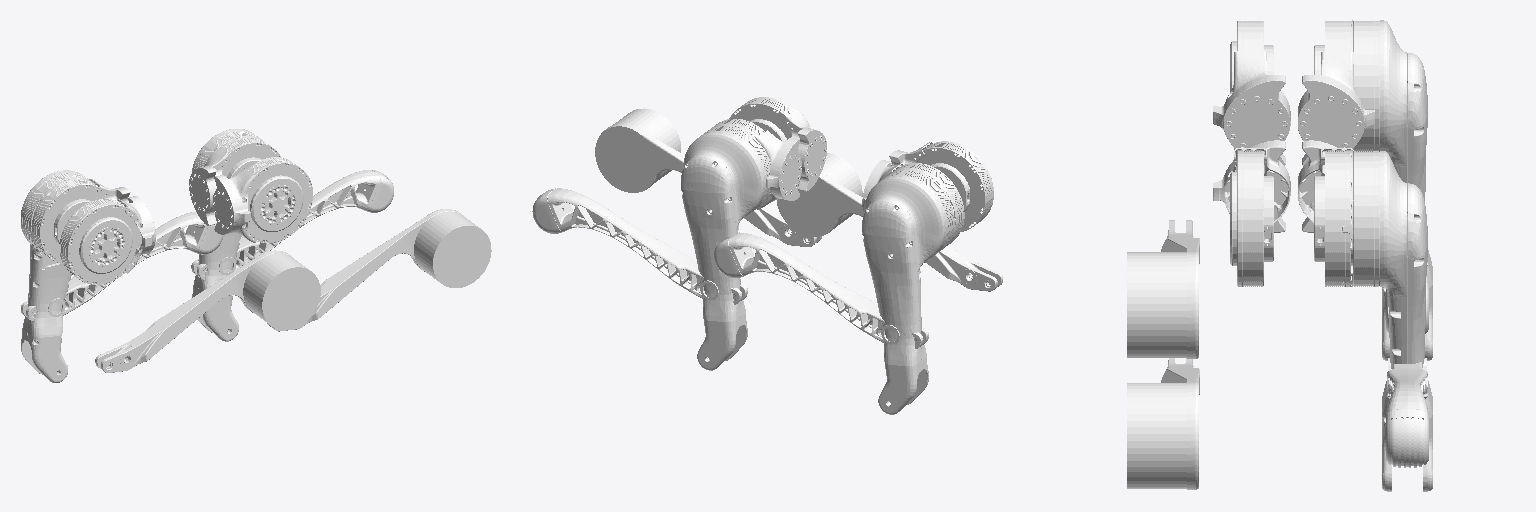
--- What the picture shows (computed from the rendered views, not written in the file) ---
Views: 3 orthographic renders of the robot side by side, from view 1: azimuth 30°, elevation 25°; view 2: azimuth 150°, elevation 25°; view 3: azimuth 270°, elevation 25°.
Model go2_description with 41 links and 40 joints (12 revolute, 28 fixed), rooted at base, posed all joints at 0 but 4 set to mid-range because 0 is outside their limits (FL_calf_joint = -1.78, FR_calf_joint = -1.78, RL_calf_joint = -1.78, RR_calf_joint = -1.78).
Visible links, largest first — view 1: RR_calf, FR_calf, FR_hip, RR_hip, RL_thigh, FL_calf, RL_hip, RL_calf, FL_thigh, FL_hip; view 2: RL_thigh, FL_thigh, FR_calf, RR_calf, FL_calf, RL_calf, RR_hip, FR_hip, FL_hip, RL_hip; view 3: FL_thigh, RL_thigh, RR_calf, FR_calf, FR_hip, RR_hip, RL_hip, FL_hip, FL_calf.
Boxes of the visible links, bbox=[...] form: RR_calf: bbox=[95, 250, 320, 372]; FR_calf: bbox=[267, 209, 491, 331]; FR_hip: bbox=[213, 157, 312, 242]; RR_hip: bbox=[60, 196, 155, 284]; RL_thigh: bbox=[21, 170, 88, 382]; FL_calf: bbox=[191, 170, 393, 279]; RL_hip: bbox=[32, 178, 130, 263]; RL_calf: bbox=[21, 212, 222, 321]; FL_thigh: bbox=[192, 129, 264, 341]; FL_hip: bbox=[189, 137, 281, 225]; RL_thigh: bbox=[862, 169, 955, 414]; FL_thigh: bbox=[681, 125, 770, 370]; FR_calf: bbox=[595, 108, 821, 246]; RR_calf: bbox=[777, 153, 1002, 291]; FL_calf: bbox=[532, 188, 747, 304]; RL_calf: bbox=[714, 232, 928, 348]; RR_hip: bbox=[889, 141, 993, 231]; FR_hip: bbox=[729, 97, 826, 191]; FL_hip: bbox=[711, 119, 801, 209]; RL_hip: bbox=[862, 160, 964, 245]; FL_thigh: bbox=[1342, 151, 1432, 491]; RL_thigh: bbox=[1350, 20, 1432, 360]; RR_calf: bbox=[1127, 220, 1199, 358]; FR_calf: bbox=[1127, 358, 1199, 489]; FR_hip: bbox=[1213, 140, 1290, 286]; RR_hip: bbox=[1213, 21, 1290, 165]; RL_hip: bbox=[1298, 21, 1374, 165]; FL_hip: bbox=[1298, 140, 1353, 286]; FL_calf: bbox=[1386, 358, 1428, 467].
Bounding box of the posed robot: 0.8815 × 0.3832 × 0.4589 m (x, y, z).
Meshes: 7 distinct files referenced, 10 mesh visuals loaded (4 Collada DAE); not drawn: 7 (reference not matched to a file when rendering).

The robot description file, URDF, robot "go2_description":
<?xml version="1.0" encoding="utf-8"?>
<!-- This URDF was automatically created by SolidWorks to URDF Exporter! Originally created by
Stephen Brawner ([email redacted]) 
     Commit Version: 1.6.0-4-g7f85cfe  Build Version: 1.6.7995.38578
     For more information, please see http://wiki.ros.org/sw_urdf_exporter -->
<robot
  name="go2_description">
  <link
    name="base">
    <inertial>
      <origin
        xyz="0.021112 0 -0.005366"
        rpy="0 0 0" />
      <mass
        value="6.921" />
      <inertia
        ixx="0.02448"
        ixy="0.00012166"
        ixz="0.0014849"
        iyy="0.098077"
        iyz="-3.12E-05"
        izz="0.107" />
    </inertial>
    <visual>
      <origin
        xyz="0 0 0"
        rpy="0 0 0" />
      <geometry>
        <mesh
          filename="package://go2_description/dae/base.dae" />
      </geometry>
      <material
        name="">
        <color
          rgba="1 1 1 1" />
      </material>
    </visual>
    <collision>
      <origin rpy="0 0 0" xyz="0 0 0" />
      <geometry>
        <box size="0.3762 0.0935 0.114" />
      </geometry>
    </collision>
  </link>
  <link
    name="Head_upper">
    <inertial>
      <origin
        xyz="0 0 0"
        rpy="0 0 0" />
      <mass
        value="0.001" />
      <inertia
        ixx="9.6e-06"
        ixy="0"
        ixz="0"
        iyy="9.6e-06"
        iyz="0"
        izz="9.6e-06" />
    </inertial>
    <collision>
      <origin
        xyz="0 0 0"
        rpy="0 0 0" />
      <geometry>
        <cylinder radius="0.05" length="0.09" />
      </geometry>
    </collision>
  </link>
  <joint
    name="Head_upper_joint"
    type="fixed" dont_collapse="true">
    <origin
      xyz="0.285 0 0.01"
      rpy="0 0 0" />
    <parent
      link="base" />
    <child
      link="Head_upper" />
    <axis
      xyz="0 0 0" />
  </joint>
  <link
    name="Head_lower">
    <inertial>
      <origin
        xyz="0 0 0"
        rpy="0 0 0" />
      <mass
        value="0.001" />
      <inertia
        ixx="9.6e-06"
        ixy="0"
        ixz="0"
        iyy="9.6e-06"
        iyz="0"
        izz="9.6e-06" />
    </inertial>
    <collision>
      <origin
        xyz="0 0 0"
        rpy="0 0 0" />
      <geometry>
        <sphere radius="0.047" />
      </geometry>
    </collision>
  </link>
  <joint
    name="Head_lower_joint"
    type="fixed" dont_collapse="true">
    <origin
      xyz="0.008 0 -0.07"
      rpy="0 0 0" />
    <parent
      link="Head_upper" />
    <child
      link="Head_lower" />
    <axis
      xyz="0 0 0" />
  </joint>
  <link
    name="FL_hip">
    <inertial>
      <origin
        xyz="-0.0054 0.00194 -0.000105"
        rpy="0 0 0" />
      <mass
        value="0.678" />
      <inertia
        ixx="0.00048"
        ixy="-3.01E-06"
        ixz="1.11E-06"
        iyy="0.000884"
        iyz="-1.42E-06"
        izz="0.000596" />
    </inertial>
    <visual>
      <origin
        xyz="0 0 0"
        rpy="0 0 0" />
      <geometry>
        <mesh
          filename="package://go2_description/dae/hip.dae" />
      </geometry>
      <material
        name="">
        <color
          rgba="1 1 1 1" />
      </material>
    </visual>
    <collision>
      <origin rpy="1.5707963267948966 0 0" xyz="0 0.08 0" />
      <geometry>
        <cylinder length="0.04" radius="0.046" />
      </geometry>
    </collision>
  </link>
  <joint
    name="FL_hip_joint"
    type="revolute">
    <origin
      xyz="0.1934 0.0465 0"
      rpy="0 0 0" />
    <parent
      link="base" />
    <child
      link="FL_hip" />
    <axis
      xyz="1 0 0" />
    <limit
      lower="-1.0472"
      upper="1.0472"
      effort="23.7"
      velocity="30.1" />
  </joint>
  <link name="FL_hip_rotor">
    <inertial>
      <origin rpy="0 0 0" xyz="0.0 0.0 0.0"/>
      <mass value="0.089"/>
      <inertia ixx="0.000111842" ixy="0.0" ixz="0.0" iyy="0.000059647" iyz="0.0" izz="0.000059647"/>
    </inertial>
  </link>
  <joint name="FL_hip_rotor_joint" type="fixed">
    <origin rpy="0 0 0" xyz="0.11215 0.04675 0"/>
    <parent link="base"/>
    <child link="FL_hip_rotor"/>
  </joint>
  <link
    name="FL_thigh">
    <inertial>
      <origin
        xyz="-0.00374 -0.0223 -0.0327"
        rpy="0 0 0" />
      <mass
        value="1.152" />
      <inertia
        ixx="0.00584"
        ixy="8.72E-05"
        ixz="-0.000289"
        iyy="0.0058"
        iyz="0.000808"
        izz="0.00103" />
    </inertial>
    <visual>
      <origin
        xyz="0 0 0"
        rpy="0 0 0" />
      <geometry>
        <mesh
          filename="package://go2_description/dae/thigh.dae" />
      </geometry>
      <material
        name="">
        <color
          rgba="1 1 1 1" />
      </material>
    </visual>
    <collision>
      <origin rpy="0 1.5707963267948966 0" xyz="0 0 -0.1065" />
      <geometry>
        <box size="0.213 0.0245 0.034" />
      </geometry>
    </collision>
  </link>
  <joint
    name="FL_thigh_joint"
    type="revolute">
    <origin
      xyz="0 0.0955 0"
      rpy="0 0 0" />
    <parent
      link="FL_hip" />
    <child
      link="FL_thigh" />
    <axis
      xyz="0 1 0" />
    <limit
      lower="-1.5708"
      upper="3.4907"
      effort="23.7"
      velocity="30.1" />
  </joint>
  <link name="FL_thigh_rotor">
    <inertial>
      <origin rpy="0 0 0" xyz="0.0 0.0 0.0"/>
      <mass value="0.089"/>
      <inertia ixx="0.000059647" ixy="0.0" ixz="0.0" iyy="0.000111842" iyz="0.0" izz="0.000059647"/>
    </inertial>
  </link>
  <joint name="FL_thigh_rotor_joint" type="fixed">
    <origin rpy="0 0 0" xyz="0 -0.00015 0"/>
    <parent link="FL_hip"/>
    <child link="FL_thigh_rotor"/>
  </joint>
  <link
    name="FL_calf">
    <inertial>
      <origin
        xyz="0.00548 -0.000975 -0.115"
        rpy="0 0 0" />
      <mass
        value="0.154" />
      <inertia
        ixx="0.00108"
        ixy="3.4E-07"
        ixz="1.72E-05"
        iyy="0.0011"
        iyz="8.28E-06"
        izz="3.29E-05" />
    </inertial>
    <visual>
      <origin
        xyz="0 0 0"
        rpy="0 0 0" />
      <geometry>
        <mesh
          filename="package://go2_description/dae/calf.dae" />
      </geometry>
      <material
        name="">
        <color
          rgba="1 1 1 1" />
      </material>
    </visual>
    <collision>
      <origin rpy="0 -0.21 0" xyz="0.008 0 -0.06" />
      <geometry>
        <cylinder length="0.12" radius="0.012" />
      </geometry>
    </collision>
  </link>
  <joint
    name="FL_calf_joint"
    type="revolute">
    <origin
      xyz="0 0 -0.213"
      rpy="0 0 0" />
    <parent
      link="FL_thigh" />
    <child
      link="FL_calf" />
    <axis
      xyz="0 1 0" />
    <limit
      lower="-2.7227"
      upper="-0.83776"
      effort="45.43"
      velocity="15.70" />
  </joint>
  <link
    name="FL_calflower">
    <collision>
      <origin rpy="0 0 0" xyz="0 0 0" />
      <geometry>
        <cylinder length="0.065" radius="0.011" />
      </geometry>
    </collision>
  </link>
  <joint
    name="FL_calflower_joint"
    type="fixed">
    <origin
      xyz="0.020 0 -0.148"
      rpy="0 0.05 0" />
    <parent
      link="FL_calf" />
    <child
      link="FL_calflower" />
    <axis
      xyz="0 0 0" />
  </joint>
  <link
    name="FL_calflower1">
    <collision>
      <origin rpy="0 0 0" xyz="0 0 0" />
      <geometry>
        <cylinder length="0.03" radius="0.0155" />
      </geometry>
    </collision>
  </link>
  <joint
    name="FL_calflower1_joint"
    type="fixed">
    <origin
      xyz="-0.01 0 -0.04"
      rpy="0 0.48 0" />
    <parent
      link="FL_calflower" />
    <child
      link="FL_calflower1" />
    <axis
      xyz="0 0 0" />
  </joint>
  <link name="FL_calf_rotor">
    <inertial>
      <origin rpy="0 0 0" xyz="0.0 0.0 0.0"/>
      <mass value="0.089"/>
      <inertia ixx="0.000059647" ixy="0.0" ixz="0.0" iyy="0.000111842" iyz="0.0" izz="0.000059647"/>
    </inertial>
  </link>
  <joint name="FL_calf_rotor_joint" type="fixed">
    <origin rpy="0 0 0" xyz="0 -0.03235 0"/>
    <parent link="FL_thigh"/>
    <child link="FL_calf_rotor"/>
  </joint>
  <link
    name="FL_foot">
    <inertial>
      <origin
        xyz="0 0 0"
        rpy="0 0 0" />
      <mass
        value="0.04" />
      <inertia
        ixx="9.6e-06"
        ixy="0"
        ixz="0"
        iyy="9.6e-06"
        iyz="0"
        izz="9.6e-06" />
    </inertial>
    <visual>
      <origin
        xyz="0 0 0"
        rpy="0 0 0" />
      <geometry>
        <mesh
          filename="package://go2_description/dae/foot.dae" />
      </geometry>
      <material
        name="">
        <color
          rgba="1 1 1 1" />
      </material>
    </visual>
    <collision>
      <origin rpy="0 0 0" xyz="-0.002 0 0" />
      <geometry>
        <sphere radius="0.022" />
      </geometry>
    </collision>
  </link>
  <joint
    name="FL_foot_joint"
    type="fixed" dont_collapse="true">
    <origin
      xyz="0 0 -0.213"
      rpy="0 0 0" />
    <parent
      link="FL_calf" />
    <child
      link="FL_foot" />
    <axis
      xyz="0 0 0" />
  </joint>
  <link
    name="FR_hip">
    <inertial>
      <origin
        xyz="-0.0054 -0.00194 -0.000105"
        rpy="0 0 0" />
      <mass
        value="0.678" />
      <inertia
        ixx="0.00048"
        ixy="3.01E-06"
        ixz="1.11E-06"
        iyy="0.000884"
        iyz="1.42E-06"
        izz="0.000596" />
    </inertial>
    <visual>
      <origin
        xyz="0 0 0"
        rpy="3.1415 0 0" />
      <geometry>
        <mesh
          filename="package://go2_description/dae/hip.dae" />
      </geometry>
      <material
        name="">
        <color
          rgba="1 1 1 1" />
      </material>
    </visual>
    <collision>
      <origin rpy="1.5707963267948966 0 0" xyz="0 -0.08 0" />
      <geometry>
        <cylinder length="0.04" radius="0.046" />
      </geometry>
    </collision>
  </link>
  <joint
    name="FR_hip_joint"
    type="revolute">
    <origin
      xyz="0.1934 -0.0465 0"
      rpy="0 0 0" />
    <parent
      link="base" />
    <child
      link="FR_hip" />
    <axis
      xyz="1 0 0" />
    <limit
      lower="-1.0472"
      upper="1.0472"
      effort="23.7"
      velocity="30.1" />
  </joint>
  <link name="FR_hip_rotor">
    <inertial>
      <origin rpy="0 0 0" xyz="0.0 0.0 0.0"/>
      <mass value="0.089"/>
      <inertia ixx="0.000111842" ixy="0.0" ixz="0.0" iyy="0.000059647" iyz="0.0" izz="0.000059647"/>
    </inertial>
  </link>
  <joint name="FR_hip_rotor_joint" type="fixed">
    <origin rpy="0 0 0" xyz="0.11215 -0.04675 0"/>
    <parent link="base"/>
    <child link="FR_hip_rotor"/>
  </joint>
  <link
    name="FR_thigh">
    <inertial>
      <origin
        xyz="-0.00374 0.0223 -0.0327"
        rpy="0 0 0" />
      <mass
        value="1.152" />
      <inertia
        ixx="0.00584"
        ixy="-8.72E-05"
        ixz="-0.000289"
        iyy="0.0058"
        iyz="-0.000808"
        izz="0.00103" />
    </inertial>
    <visual>
      <origin
        xyz="0 0 0"
        rpy="0 0 0" />
      <geometry>
        <mesh
          filename="package://go2_description/dae/thigh_mirror.dae" />
      </geometry>
      <material
        name="">
        <color
          rgba="1 1 1 1" />
      </material>
    </visual>
    <collision>
      <origin rpy="0 1.5707963267948966 0" xyz="0 0 -0.1065" />
      <geometry>
        <box size="0.213 0.0245 0.034" />
      </geometry>
    </collision>
  </link>
  <joint
    name="FR_thigh_joint"
    type="revolute">
    <origin
      xyz="0 -0.0955 0"
      rpy="0 0 0" />
    <parent
      link="FR_hip" />
    <child
      link="FR_thigh" />
    <axis
      xyz="0 1 0" />
    <limit
      lower="-1.5708"
      upper="3.4907"
      effort="23.7"
      velocity="30.1" />
  </joint>
  <link name="FR_thigh_rotor">
    <inertial>
      <origin rpy="0 0 0" xyz="0.0 0.0 0.0"/>
      <mass value="0.089"/>
      <inertia ixx="0.000059647" ixy="0.0" ixz="0.0" iyy="0.000111842" iyz="0.0" izz="0.000059647"/>
    </inertial>
  </link>
  <joint name="FR_thigh_rotor_joint" type="fixed">
    <origin rpy="0 0 0" xyz="0 0.00015 0"/>
    <parent link="FR_hip"/>
    <child link="FR_thigh_rotor"/>
  </joint>
  <link
    name="FR_calf">
    <inertial>
      <origin
        xyz="0.00548 0.000975 -0.115"
        rpy="0 0 0" />
      <mass
        value="0.154" />
      <inertia
        ixx="0.00108"
        ixy="-3.4E-07"
        ixz="1.72E-05"
        iyy="0.0011"
        iyz="-8.28E-06"
        izz="3.29E-05" />
    </inertial>
    <visual>
      <origin
        xyz="0 0 0"
        rpy="0 0 0" />
      <geometry>
        <mesh
          filename="package://go2_description/dae/calf_mirror.dae" />
      </geometry>
      <material
        name="">
        <color
          rgba="1 1 1 1" />
      </material>
    </visual>
    <collision>
      <origin rpy="0 -0.2 0" xyz="0.01 0 -0.06" />
      <geometry>
        <cylinder length="0.12" radius="0.013" />
      </geometry>
    </collision>
  </link>
  <joint
    name="FR_calf_joint"
    type="revolute">
    <origin
      xyz="0 0 -0.213"
      rpy="0 0 0" />
    <parent
      link="FR_thigh" />
    <child
      link="FR_calf" />
    <axis
      xyz="0 1 0" />
    <limit
      lower="-2.7227"
      upper="-0.83776"
      effort="45.43"
      velocity="15.70" />
  </joint>
  <link
    name="FR_calflower">
    <collision>
      <origin rpy="0 0 0" xyz="0 0 0" />
      <geometry>
        <cylinder length="0.065" radius="0.011" />
      </geometry>
    </collision>
  </link>
  <joint
    name="FR_calflower_joint"
    type="fixed">
    <origin
      xyz="0.020 0 -0.148"
      rpy="0 0.05 0" />
    <parent
      link="FR_calf" />
    <child
      link="FR_calflower" />
    <axis
      xyz="0 0 0" />
  </joint>
  <link
    name="FR_calflower1">
    <collision>
      <origin rpy="0 0 0" xyz="0 0 0" />
      <geometry>
        <cylinder length="0.03" radius="0.0155" />
      </geometry>
    </collision>
  </link>
  <joint
    name="FR_calflower1_joint"
    type="fixed">
    <origin
      xyz="-0.01 0 -0.04"
      rpy="0 0.48 0" />
    <parent
      link="FR_calflower" />
    <child
      link="FR_calflower1" />
    <axis
      xyz="0 0 0" />
  </joint>
  <link name="FR_calf_rotor">
    <inertial>
      <origin rpy="0 0 0" xyz="0.0 0.0 0.0"/>
      <mass value="0.089"/>
      <inertia ixx="0.000059647" ixy="0.0" ixz="0.0" iyy="0.000111842" iyz="0.0" izz="0.000059647"/>
    </inertial>
  </link>
  <joint name="FR_calf_rotor_joint" type="fixed">
    <origin rpy="0 0 0" xyz="0 0.03235 0"/>
    <parent link="FR_thigh"/>
    <child link="FR_calf_rotor"/>
  </joint>
  <link
    name="FR_foot">
    <inertial>
      <origin
        xyz="0 0 0"
        rpy="0 0 0" />
      <mass
        value="0.04" />
      <inertia
        ixx="9.6e-06"
        ixy="0"
        ixz="0"
        iyy="9.6e-06"
        iyz="0"
        izz="9.6e-06" />
    </inertial>
    <visual>
      <origin
        xyz="0 0 0"
        rpy="0 0 0" />
      <geometry>
        <mesh
          filename="package://go2_description/dae/foot.dae" />
      </geometry>
      <material
        name="">
        <color
          rgba="1 1 1 1" />
      </material>
    </visual>
    <collision>
      <origin rpy="0 0 0" xyz="-0.002 0 0" />
      <geometry>
        <sphere radius="0.022" />
      </geometry>
    </collision>
  </link>
  <joint
    name="FR_foot_joint"
    type="fixed" dont_collapse="true">
    <origin
      xyz="0 0 -0.213"
      rpy="0 0 0" />
    <parent
      link="FR_calf" />
    <child
      link="FR_foot" />
    <axis
      xyz="0 0 0" />
  </joint>
  <link
    name="RL_hip">
    <inertial>
      <origin
        xyz="0.0054 0.00194 -0.000105"
        rpy="0 0 0" />
      <mass
        value="0.678" />
      <inertia
        ixx="0.00048"
        ixy="3.01E-06"
        ixz="-1.11E-06"
        iyy="0.000884"
        iyz="-1.42E-06"
        izz="0.000596" />
    </inertial>
    <visual>
      <origin
        xyz="0 0 0"
        rpy="0 3.1415 0" />
      <geometry>
        <mesh
          filename="package://go2_description/dae/hip.dae" />
      </geometry>
      <material
        name="">
        <color
          rgba="1 1 1 1" />
      </material>
    </visual>
    <collision>
      <origin rpy="1.5707963267948966 0 0" xyz="0 0.08 0" />
      <geometry>
        <cylinder length="0.04" radius="0.046" />
      </geometry>
    </collision>
  </link>
  <joint
    name="RL_hip_joint"
    type="revolute">
    <origin
      xyz="-0.1934 0.0465 0"
      rpy="0 0 0" />
    <parent
      link="base" />
    <child
      link="RL_hip" />
    <axis
      xyz="1 0 0" />
    <limit
      lower="-1.0472"
      upper="1.0472"
      effort="23.7"
      velocity="30.1" />
  </joint>
  <link name="RL_hip_rotor">
    <inertial>
      <origin rpy="0 0 0" xyz="0.0 0.0 0.0"/>
      <mass value="0.089"/>
      <inertia ixx="0.000111842" ixy="0.0" ixz="0.0" iyy="0.000059647" iyz="0.0" izz="0.000059647"/>
    </inertial>
  </link>
  <joint name="RL_hip_rotor_joint" type="fixed">
    <origin rpy="0 0 0" xyz="-0.11215 0.04675 0"/>
    <parent link="base"/>
    <child link="RL_hip_rotor"/>
  </joint>
  <link
    name="RL_thigh">
    <inertial>
      <origin
        xyz="-0.00374 -0.0223 -0.0327"
        rpy="0 0 0" />
      <mass
        value="1.152" />
      <inertia
        ixx="0.00584"
        ixy="8.72E-05"
        ixz="-0.000289"
        iyy="0.0058"
        iyz="0.000808"
        izz="0.00103" />
    </inertial>
    <visual>
      <origin
        xyz="0 0 0"
        rpy="0 0 0" />
      <geometry>
        <mesh
          filename="package://go2_description/dae/thigh.dae" />
      </geometry>
      <material
        name="">
        <color
          rgba="1 1 1 1" />
      </material>
    </visual>
    <collision>
      <origin rpy="0 1.5707963267948966 0" xyz="0 0 -0.1065" />
      <geometry>
        <box size="0.213 0.0245 0.034" />
      </geometry>
    </collision>
  </link>
  <joint
    name="RL_thigh_joint"
    type="revolute">
    <origin
      xyz="0 0.0955 0"
      rpy="0 0 0" />
    <parent
      link="RL_hip" />
    <child
      link="RL_thigh" />
    <axis
      xyz="0 1 0" />
    <limit
      lower="-0.5236"
      upper="4.5379"
      effort="23.7"
      velocity="30.1" />
  </joint>
  <link name="RL_thigh_rotor">
    <inertial>
      <origin rpy="0 0 0" xyz="0.0 0.0 0.0"/>
      <mass value="0.089"/>
      <inertia ixx="0.000059647" ixy="0.0" ixz="0.0" iyy="0.000111842" iyz="0.0" izz="0.000059647"/>
    </inertial>
  </link>
  <joint name="RL_thigh_rotor_joint" type="fixed">
    <origin rpy="0 0 0" xyz="0 -0.00015 0"/>
    <parent link="RL_hip"/>
    <child link="RL_thigh_rotor"/>
  </joint>
  <link
    name="RL_calf">
    <inertial>
      <origin
        xyz="0.00548 -0.000975 -0.115"
        rpy="0 0 0" />
      <mass
        value="0.154" />
      <inertia
        ixx="0.00108"
        ixy="3.4E-07"
        ixz="1.72E-05"
        iyy="0.0011"
        iyz="8.28E-06"
        izz="3.29E-05" />
    </inertial>
    <visual>
      <origin
        xyz="0 0 0"
        rpy="0 0 0" />
      <geometry>
        <mesh
          filename="package://go2_description/dae/calf.dae" />
      </geometry>
      <material
        name="">
        <color
          rgba="1 1 1 1" />
      </material>
    </visual>
    <collision>
      <origin rpy="0 -0.2 0" xyz="0.01 0 -0.06" />
      <geometry>
        <cylinder length="0.12" radius="0.013" />
      </geometry>
    </collision>
  </link>
  <joint
    name="RL_calf_joint"
    type="revolute">
    <origin
      xyz="0 0 -0.213"
      rpy="0 0 0" />
    <parent
      link="RL_thigh" />
    <child
      link="RL_calf" />
    <axis
      xyz="0 1 0" />
    <limit
      lower="-2.7227"
      upper="-0.83776"
      effort="45.43"
      velocity="15.70" />
  </joint>
  <link
    name="RL_calflower">
    <collision>
      <origin rpy="0 0 0" xyz="0 0 0" />
      <geometry>
        <cylinder length="0.065" radius="0.011" />
      </geometry>
    </collision>
  </link>
  <joint
    name="RL_calflower_joint"
    type="fixed">
    <origin
      xyz="0.020 0 -0.148"
      rpy="0 0.05 0" />
    <parent
      link="RL_calf" />
    <child
      link="RL_calflower" />
    <axis
      xyz="0 0 0" />
  </joint>
  <link
    name="RL_calflower1">
    <collision>
      <origin rpy="0 0 0" xyz="0 0 0" />
      <geometry>
        <cylinder length="0.03" radius="0.0155" />
      </geometry>
    </collision>
  </link>
  <joint
    name="RL_calflower1_joint"
    type="fixed">
    <origin
      xyz="-0.01 0 -0.04"
      rpy="0 0.48 0" />
    <parent
      link="RL_calflower" />
    <child
      link="RL_calflower1" />
    <axis
      xyz="0 0 0" />
  </joint>
  <link name="RL_calf_rotor">
    <inertial>
      <origin rpy="0 0 0" xyz="0.0 0.0 0.0"/>
      <mass value="0.089"/>
      <inertia ixx="0.000059647" ixy="0.0" ixz="0.0" iyy="0.000111842" iyz="0.0" izz="0.000059647"/>
    </inertial>
  </link>
  <joint name="RL_calf_rotor_joint" type="fixed">
    <origin rpy="0 0 0" xyz="0 -0.03235 0"/>
    <parent link="RL_thigh"/>
    <child link="RL_calf_rotor"/>
  </joint>
  <link
    name="RL_foot">
    <inertial>
      <origin
        xyz="0 0 0"
        rpy="0 0 0" />
      <mass
        value="0.04" />
      <inertia
        ixx="9.6e-06"
        ixy="0"
        ixz="0"
        iyy="9.6e-06"
        iyz="0"
        izz="9.6e-06" />
    </inertial>
    <visual>
      <origin
        xyz="0 0 0"
        rpy="0 0 0" />
      <geometry>
        <mesh
          filename="package://go2_description/dae/foot.dae" />
      </geometry>
      <material
        name="">
        <color
          rgba="1 1 1 1" />
      </material>
    </visual>
    <collision>
      <origin rpy="0 0 0" xyz="-0.002 0 0" />
      <geometry>
        <sphere radius="0.022" />
      </geometry>
    </collision>
  </link>
  <joint
    name="RL_foot_joint"
    type="fixed" dont_collapse="true">
    <origin
      xyz="0 0 -0.213"
      rpy="0 0 0" />
    <parent
      link="RL_calf" />
    <child
      link="RL_foot" />
    <axis
      xyz="0 0 0" />
  </joint>
  <link
    name="RR_hip">
    <inertial>
      <origin
        xyz="0.0054 -0.00194 -0.000105"
        rpy="0 0 0" />
      <mass
        value="0.678" />
      <inertia
        ixx="0.00048"
        ixy="-3.01E-06"
        ixz="-1.11E-06"
        iyy="0.000884"
        iyz="1.42E-06"
        izz="0.000596" />
    </inertial>
    <visual>
      <origin
        xyz="0 0 0"
        rpy="3.1415 3.1415 0" />
      <geometry>
        <mesh
          filename="package://go2_description/dae/hip.dae" />
      </geometry>
      <material
        name="">
        <color
          rgba="1 1 1 1" />
      </material>
    </visual>
    <collision>
      <origin rpy="1.5707963267948966 0 0" xyz="0 -0.08 0" />
      <geometry>
        <cylinder length="0.04" radius="0.046" />
      </geometry>
    </collision>
  </link>
  <joint
    name="RR_hip_joint"
    type="revolute">
    <origin
      xyz="-0.1934 -0.0465 0"
      rpy="0 0 0" />
    <parent
      link="base" />
    <child
      link="RR_hip" />
    <axis
      xyz="1 0 0" />
    <limit
      lower="-1.0472"
      upper="1.0472"
      effort="23.7"
      velocity="30.1" />
  </joint>
  <link name="RR_hip_rotor">
    <inertial>
      <origin rpy="0 0 0" xyz="0.0 0.0 0.0"/>
      <mass value="0.089"/>
      <inertia ixx="0.000111842" ixy="0.0" ixz="0.0" iyy="0.000059647" iyz="0.0" izz="0.000059647"/>
    </inertial>
  </link>
  <joint name="RR_hip_rotor_joint" type="fixed">
    <origin rpy="0 0 0" xyz="-0.11215 -0.04675 0"/>
    <parent link="base"/>
    <child link="RR_hip_rotor"/>
  </joint>
  <link
    name="RR_thigh">
    <inertial>
      <origin
        xyz="-0.00374 0.0223 -0.0327"
        rpy="0 0 0" />
      <mass
        value="1.152" />
      <inertia
        ixx="0.00584"
        ixy="-8.72E-05"
        ixz="-0.000289"
        iyy="0.0058"
        iyz="-0.000808"
        izz="0.00103" />
    </inertial>
    <visual>
      <origin
        xyz="0 0 0"
        rpy="0 0 0" />
      <geometry>
        <mesh
          filename="package://go2_description/dae/thigh_mirror.dae" />
      </geometry>
      <material
        name="">
        <color
          rgba="1 1 1 1" />
      </material>
    </visual>
    <collision>
      <origin rpy="0 1.5707963267948966 0" xyz="0 0 -0.1065" />
      <geometry>
        <box size="0.213 0.0245 0.034" />
      </geometry>
    </collision>
  </link>
  <joint
    name="RR_thigh_joint"
    type="revolute">
    <origin
      xyz="0 -0.0955 0"
      rpy="0 0 0" />
    <parent
      link="RR_hip" />
    <child
      link="RR_thigh" />
    <axis
      xyz="0 1 0" />
    <limit
      lower="-0.5236"
      upper="4.5379"
      effort="23.7"
      velocity="30.1" />
  </joint>
  <link name="RR_thigh_rotor">
    <inertial>
      <origin rpy="0 0 0" xyz="0.0 0.0 0.0"/>
      <mass value="0.089"/>
      <inertia ixx="0.000059647" ixy="0.0" ixz="0.0" iyy="0.000111842" iyz="0.0" izz="0.000059647"/>
    </inertial>
  </link>
  <joint name="RR_thigh_rotor_joint" type="fixed">
    <origin rpy="0 0 0" xyz="0 0.00015 0"/>
    <parent link="RR_hip"/>
    <child link="RR_thigh_rotor"/>
  </joint>
  <link
    name="RR_calf">
    <inertial>
      <origin
        xyz="0.00548 0.000975 -0.115"
        rpy="0 0 0" />
      <mass
        value="0.154" />
      <inertia
        ixx="0.00108"
        ixy="-3.4E-07"
        ixz="1.72E-05"
        iyy="0.0011"
        iyz="-8.28E-06"
        izz="3.29E-05" />
    </inertial>
    <visual>
      <origin
        xyz="0 0 0"
        rpy="0 0 0" />
      <geometry>
        <mesh
          filename="package://go2_description/dae/calf_mirror.dae" />
      </geometry>
      <material
        name="">
        <color
          rgba="1 1 1 1" />
      </material>
    </visual>
    <collision>
      <origin rpy="0 -0.2 0" xyz="0.01 0 -0.06" />
      <geometry>
        <cylinder length="0.12" radius="0.013" />
      </geometry>
    </collision>
  </link>
  <joint
    name="RR_calf_joint"
    type="revolute">
    <origin
      xyz="0 0 -0.213"
      rpy="0 0 0" />
    <parent
      link="RR_thigh" />
    <child
      link="RR_calf" />
    <axis
      xyz="0 1 0" />
    <limit
      lower="-2.7227"
      upper="-0.83776"
      effort="45.43"
      velocity="15.70" />
  </joint>
  <link
    name="RR_calflower">
    <collision>
      <origin rpy="0 0 0" xyz="0 0 0" />
      <geometry>
        <cylinder length="0.065" radius="0.011" />
      </geometry>
    </collision>
  </link>
  <joint
    name="RR_calflower_joint"
    type="fixed">
    <origin
      xyz="0.020 0 -0.148"
      rpy="0 0.05 0" />
    <parent
      link="RR_calf" />
    <child
      link="RR_calflower" />
    <axis
      xyz="0 0 0" />
  </joint>
  <link
    name="RR_calflower1">
    <collision>
      <origin rpy="0 0 0" xyz="0 0 0" />
      <geometry>
        <cylinder length="0.03" radius="0.0155" />
      </geometry>
    </collision>
  </link>
  <joint
    name="RR_calflower1_joint"
    type="fixed">
    <origin
      xyz="-0.01 0 -0.04"
      rpy="0 0.48 0" />
    <parent
      link="RR_calflower" />
    <child
      link="RR_calflower1" />
    <axis
      xyz="0 0 0" />
  </joint>
  <link name="RR_calf_rotor">
    <inertial>
      <origin rpy="0 0 0" xyz="0.0 0.0 0.0"/>
      <mass value="0.089"/>
      <inertia ixx="0.000059647" ixy="0.0" ixz="0.0" iyy="0.000111842" iyz="0.0" izz="0.000059647"/>
    </inertial>
  </link>
  <joint name="RR_calf_rotor_joint" type="fixed">
    <origin rpy="0 0 0" xyz="0 0.03235 0"/>
    <parent link="RR_thigh"/>
    <child link="RR_calf_rotor"/>
  </joint>
  <link
    name="RR_foot">
    <inertial>
      <origin
        xyz="0 0 0"
        rpy="0 0 0" />
      <mass
        value="0.04" />
      <inertia
        ixx="9.6e-06"
        ixy="0"
        ixz="0"
        iyy="9.6e-06"
        iyz="0"
        izz="9.6e-06" />
    </inertial>
    <visual>
      <origin
        xyz="0 0 0"
        rpy="0 0 0" />
      <geometry>
        <mesh
          filename="package://go2_description/dae/foot.dae" />
      </geometry>
      <material
        name="">
        <color
          rgba="1 1 1 1" />
      </material>
    </visual>
    <collision>
      <origin rpy="0 0 0" xyz="-0.002 0 0" />
      <geometry>
        <sphere radius="0.022" />
      </geometry>
    </collision>
  </link>
  <joint
    name="RR_foot_joint"
    type="fixed" dont_collapse="true">
    <origin
      xyz="0 0 -0.213"
      rpy="0 0 0" />
    <parent
      link="RR_calf" />
    <child
      link="RR_foot" />
    <axis
      xyz="0 0 0" />
  </joint>
  <link
    name="imu">
    <inertial>
      <origin
        xyz="0 0 0"
        rpy="0 0 0" />
      <mass
        value="0" />
      <inertia
        ixx="0"
        ixy="0"
        ixz="0"
        iyy="0"
        iyz="0"
        izz="0" />
    </inertial>
  </link>
  <joint
    name="imu_joint"
    type="fixed">
    <origin
      xyz="-0.02557 0 0.04232"
      rpy="0 0 0" />
    <parent
      link="base" />
    <child
      link="imu" />
    <axis
      xyz="0 0 0" />
  </joint>
  <link
    name="radar">
    <inertial>
      <origin
        xyz="0 0 0"
        rpy="0 0 0" />
      <mass
        value="0" />
      <inertia
        ixx="0"
        ixy="0"
        ixz="0"
        iyy="0"
        iyz="0"
        izz="0" />
    </inertial>
  </link>
  <joint
    name="radar_joint"
    type="fixed">
    <origin
      xyz="0.28945 0 -0.046825"
      rpy="0 2.8782 0" />
    <parent
      link="base" />
    <child
      link="radar" />
    <axis
      xyz="0 0 0" />
  </joint>
</robot>
